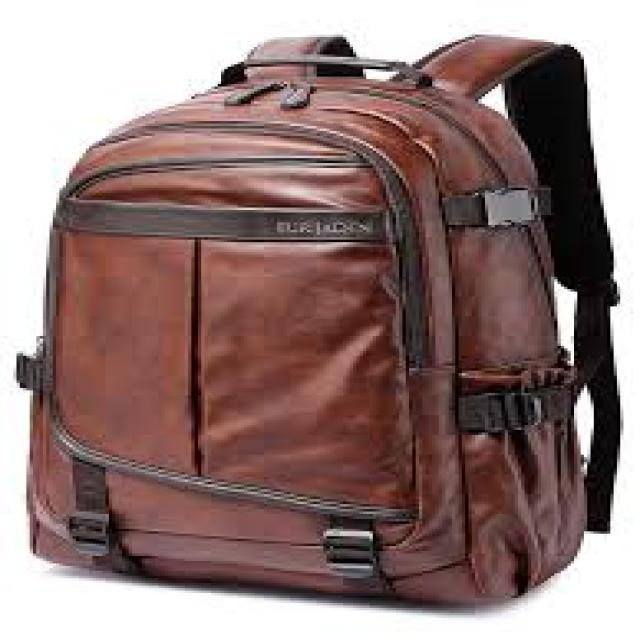backpack: (14, 33, 621, 607)
